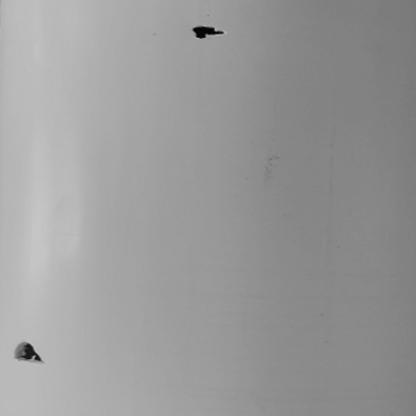kongdong: (7, 336, 53, 368), (195, 19, 228, 41)
